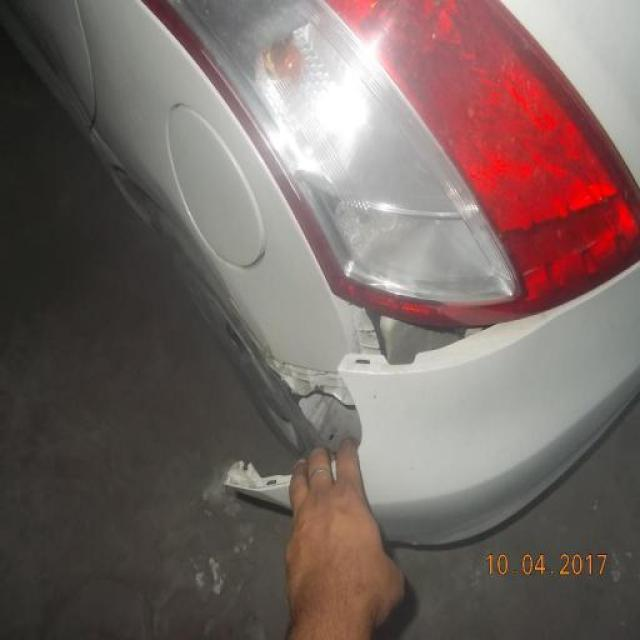tear: (229, 307, 505, 488)
